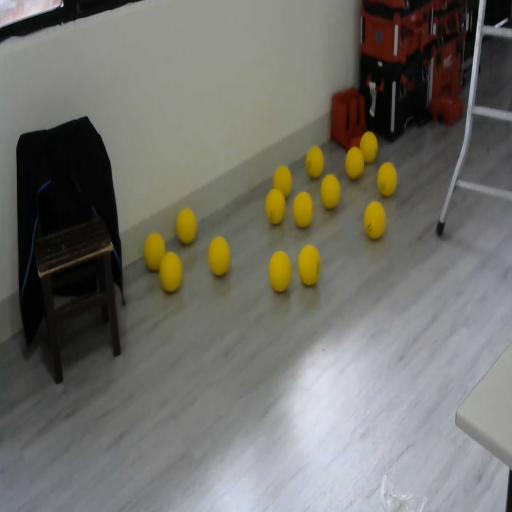FUEL: (268, 250, 293, 293), (158, 250, 183, 293), (207, 235, 231, 277), (298, 244, 321, 286), (144, 232, 166, 271), (364, 201, 386, 240), (292, 191, 314, 228), (176, 208, 198, 244), (320, 173, 340, 210), (273, 164, 293, 200), (377, 161, 397, 197), (345, 146, 364, 179), (306, 146, 324, 178), (360, 131, 378, 163)
